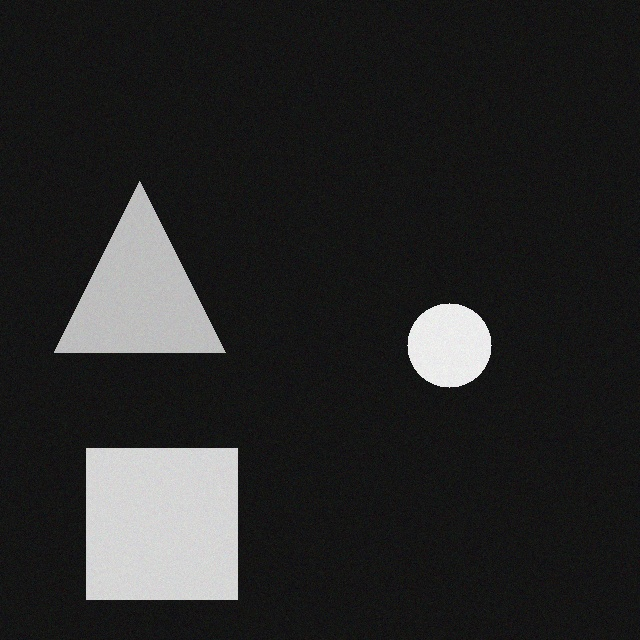circle: (394, 300, 478, 384)
square: (73, 445, 224, 596)
triangle: (41, 178, 212, 349)
